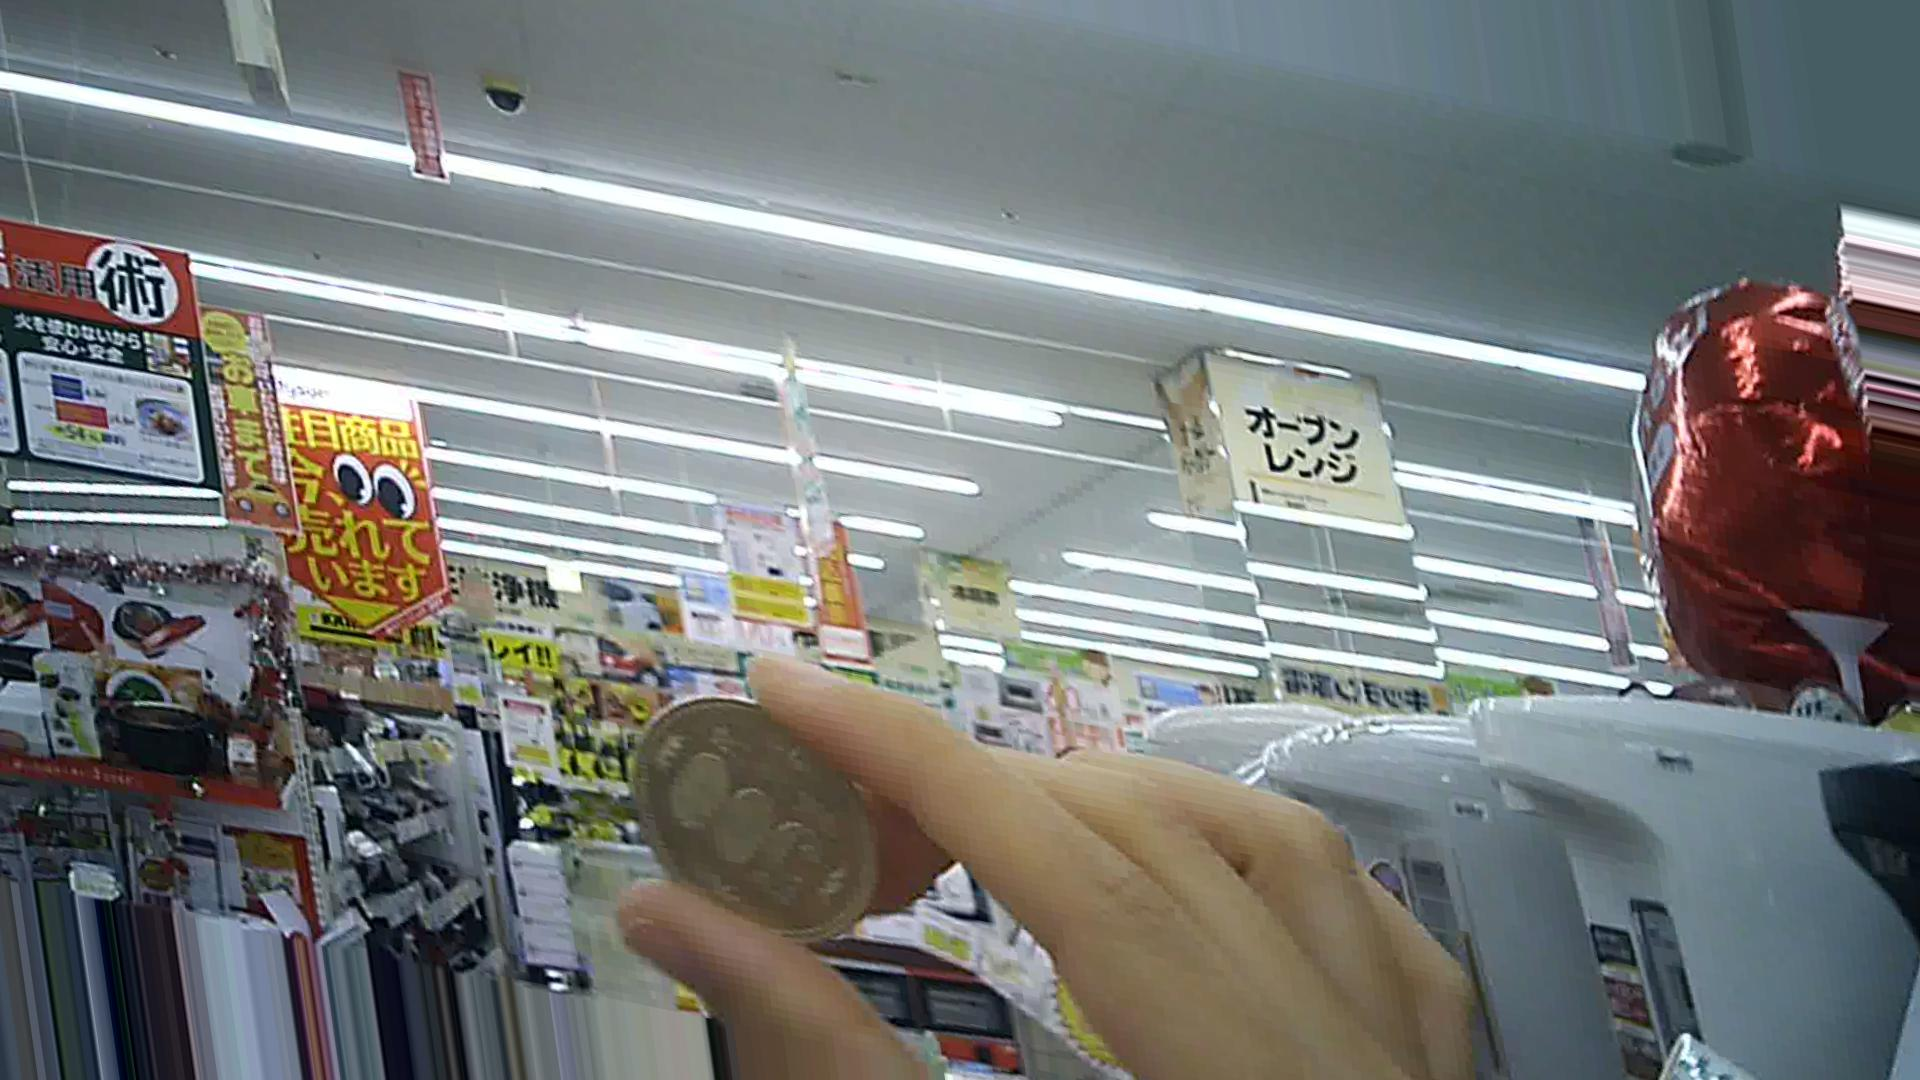500 Yen: (633, 694, 885, 947)
